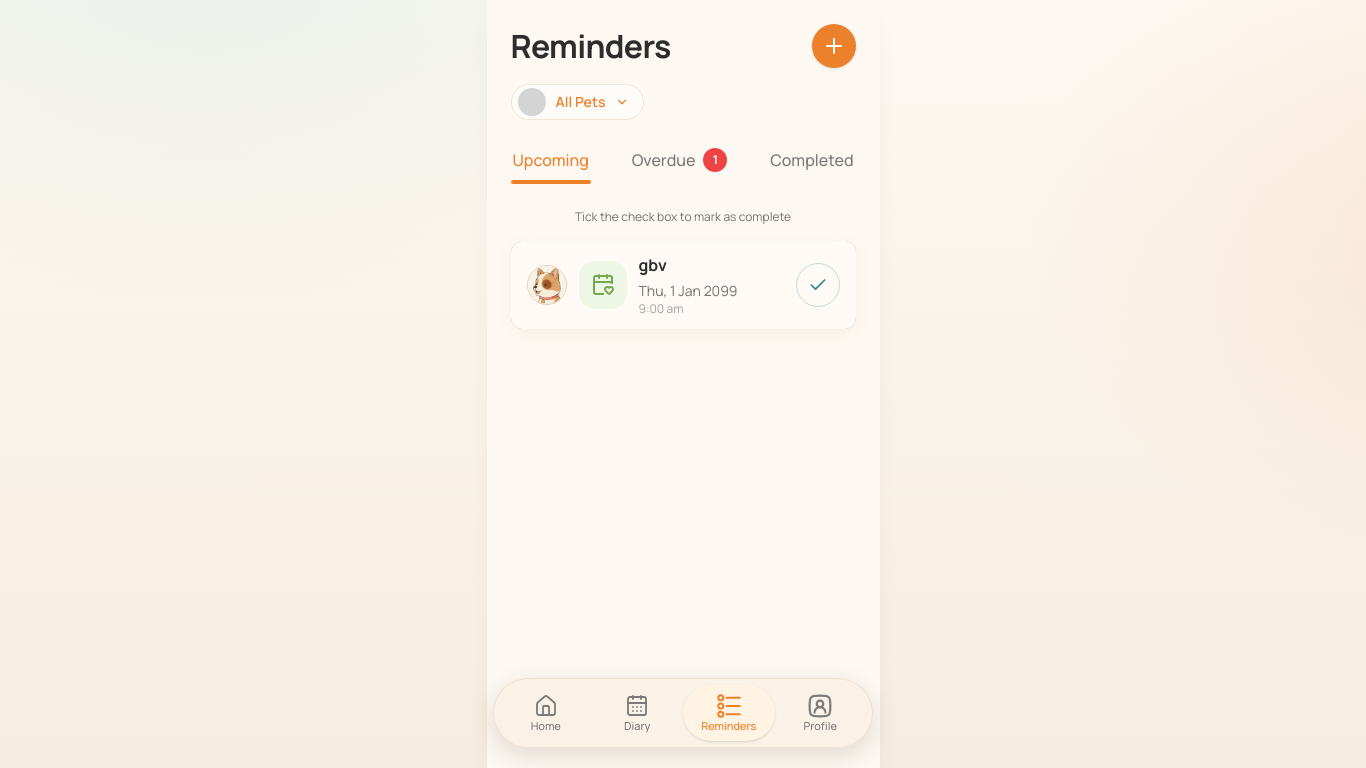
RemindersHome › does not duplicate an already scheduled occurrence when an overdue one is completed
Click the tab with aria-label "Overdue, 1 reminder" at (680,160), box [630,136,729,184]
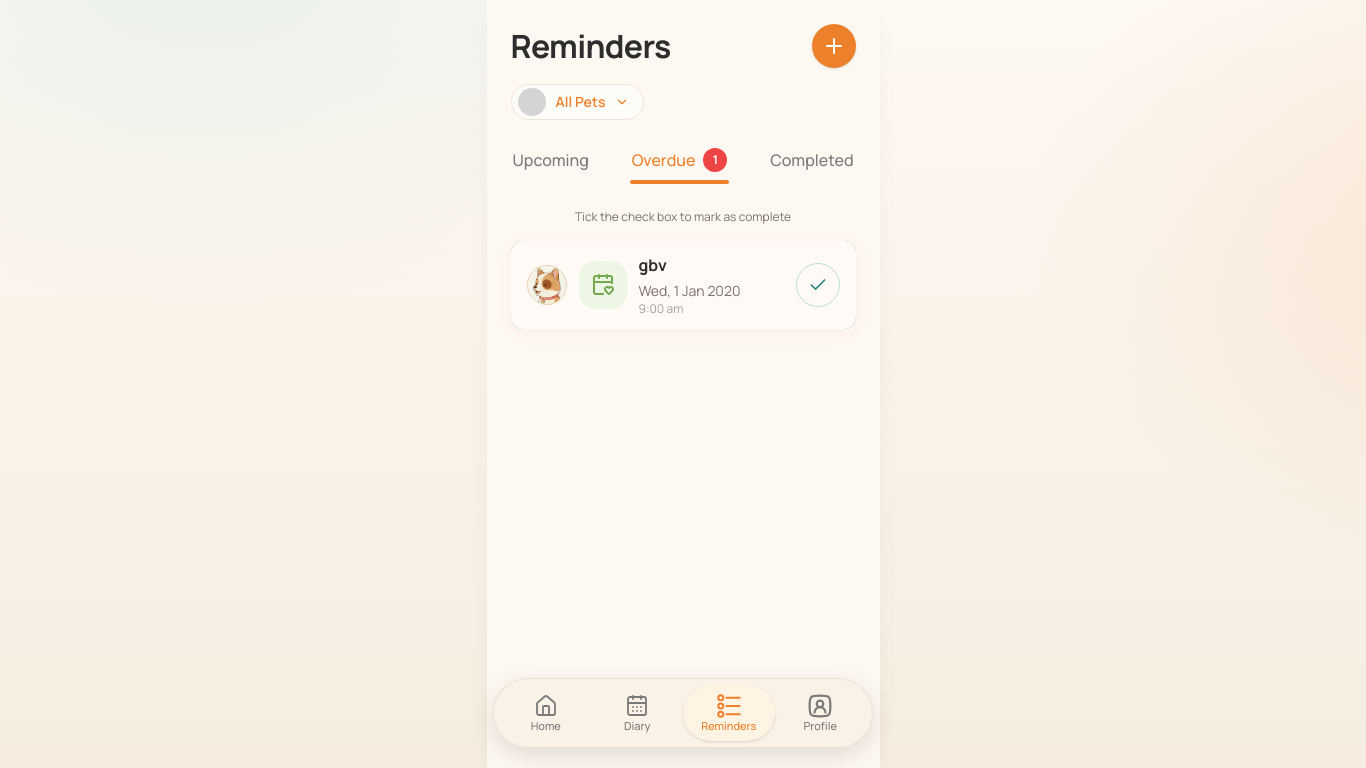
Click the button named "Mark gbv as done" at (818,285), box [796,263,840,307]
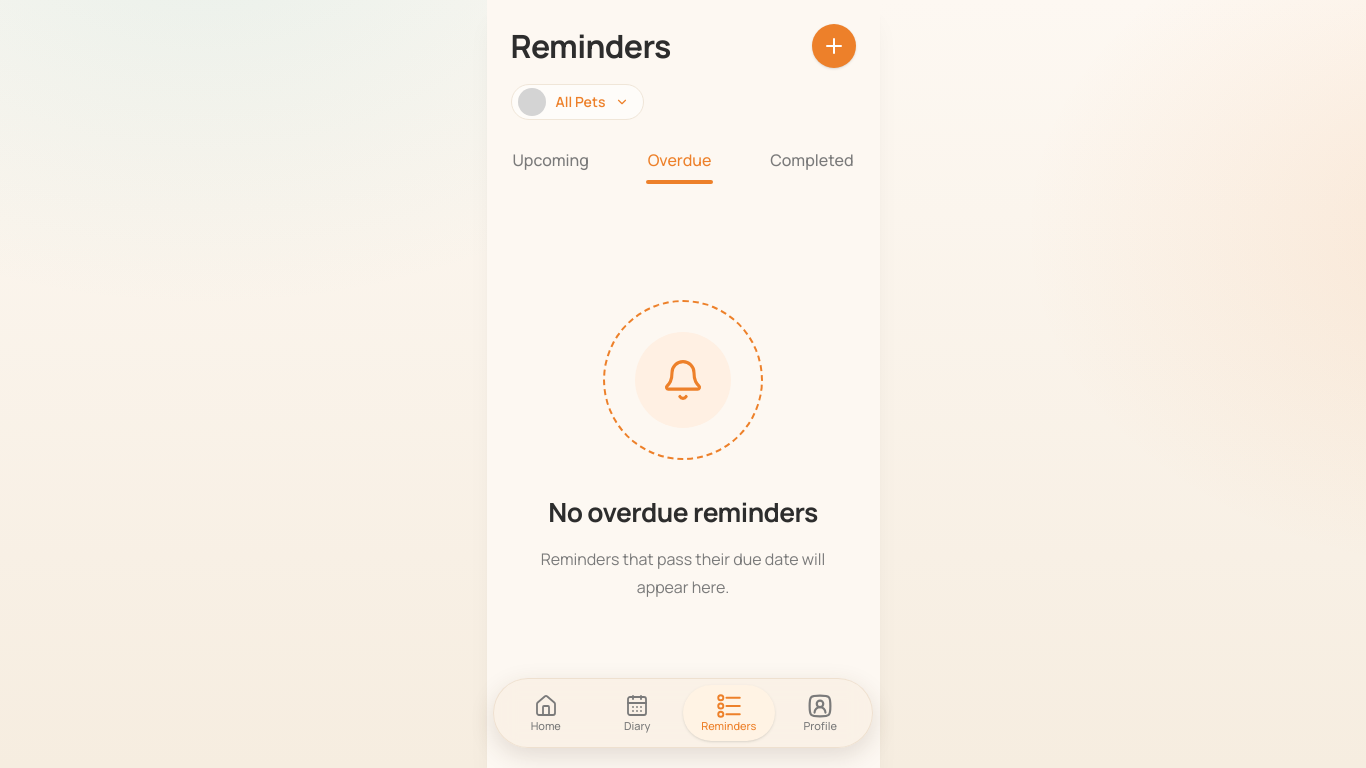
Check: the tab "Overdue" is shown, box [646,136,713,184]
Click the tab "Upcoming" at (551,160), box [510,136,591,184]
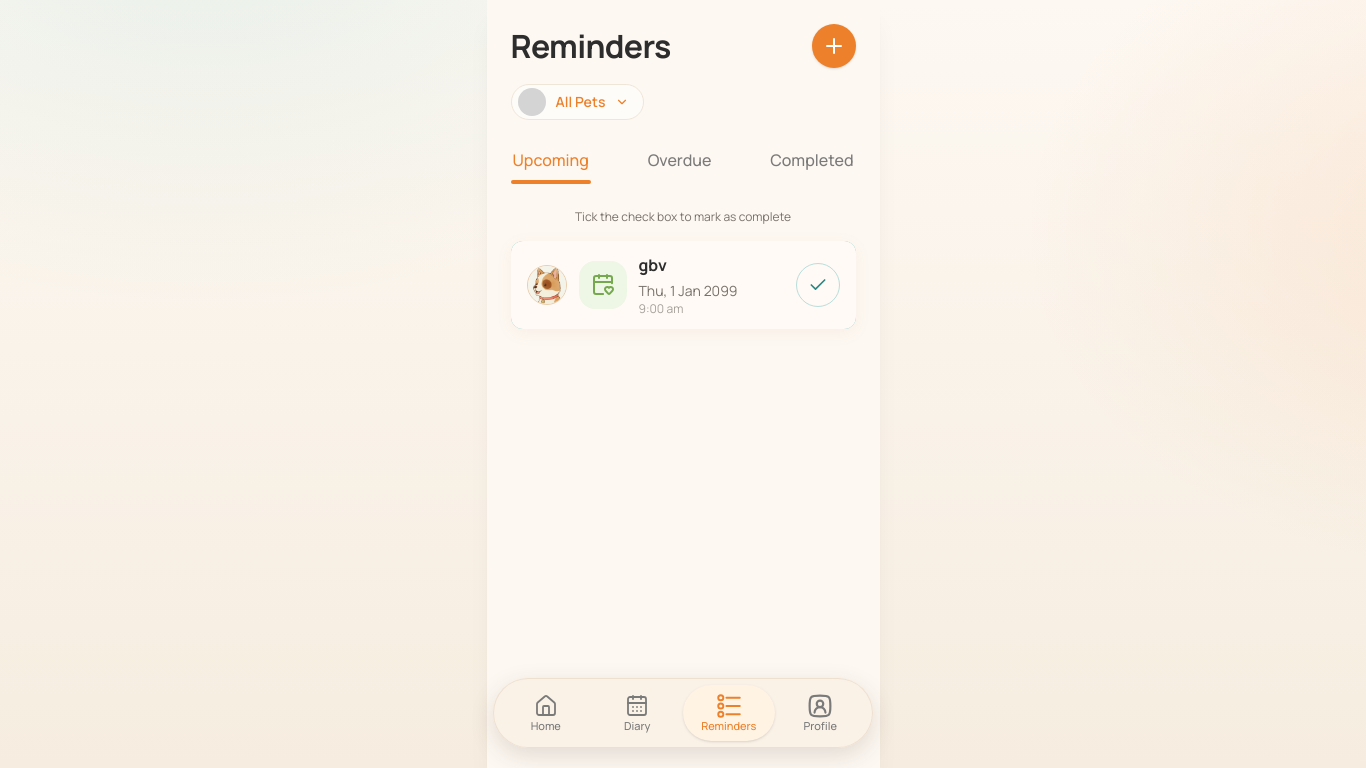
Check: the text "gbv" is shown once, box [638,254,667,276]
